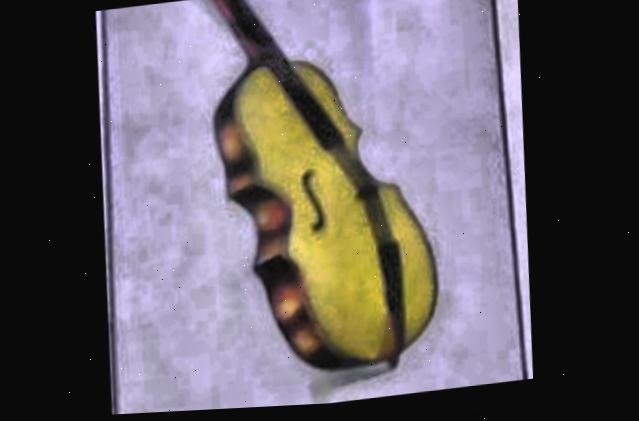El Violoncello: (95, 0, 544, 417)
